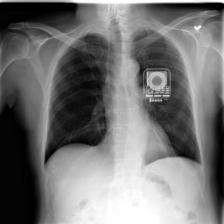normal: (38, 21, 204, 172)
